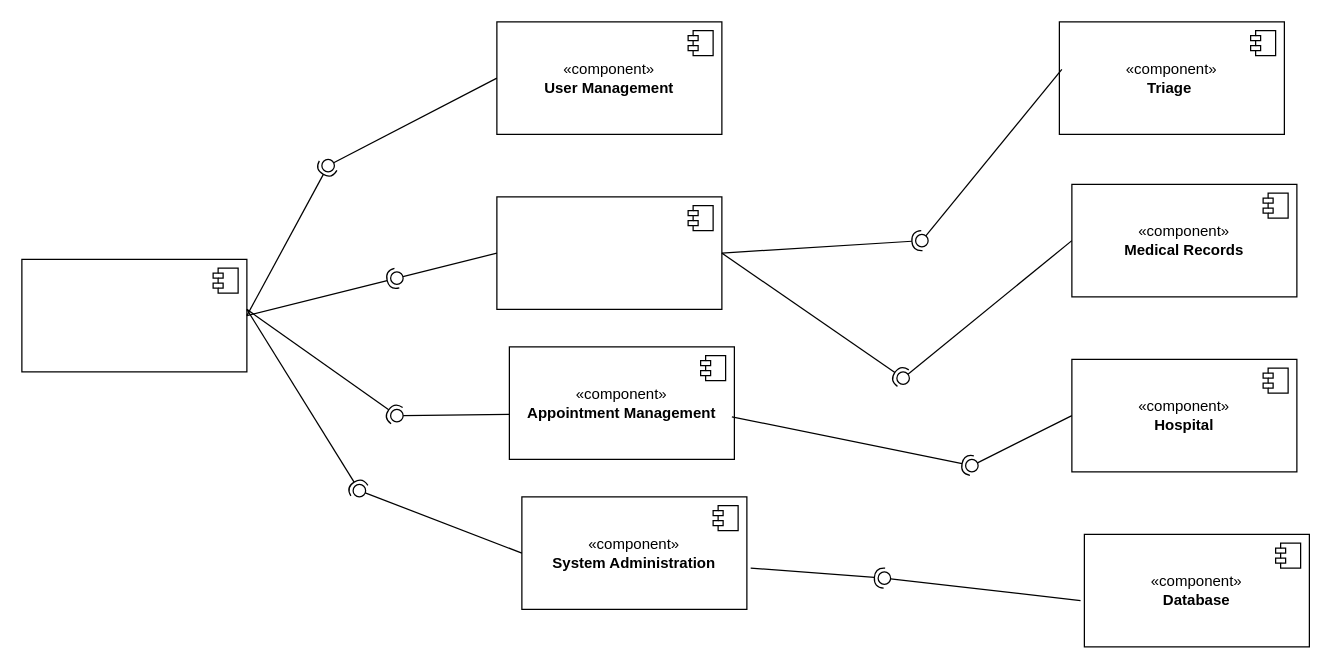
Some shapes in this 1331 by 669 pixel diagram are drawn without their labels. The shapes that lost their labels are listed below. From the top down, each one's box as (x1, y1, x2, y2) in pixels, then its label:
(496, 196, 722, 309): «component» Patient Management
(21, 258, 247, 372): «component» GUI
